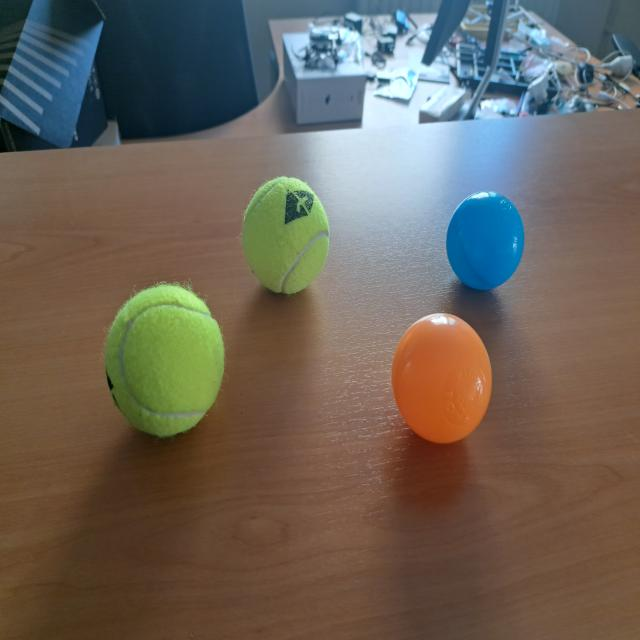blue: (445, 189, 525, 293)
orange: (392, 312, 493, 447)
tennis: (104, 278, 226, 440), (241, 175, 329, 296)
